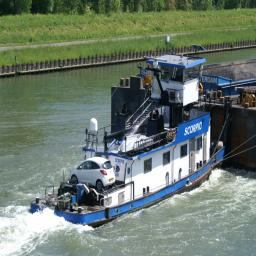tugboat: (29, 50, 227, 232)
